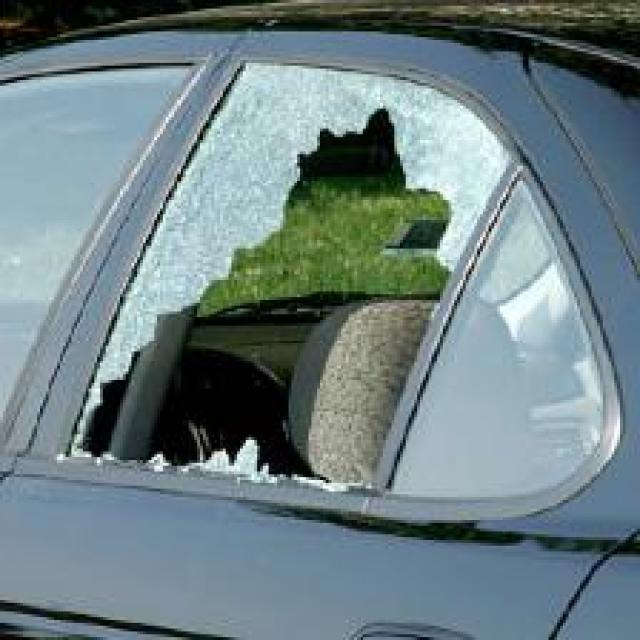glass_shatter_severe: (137, 66, 451, 483)
